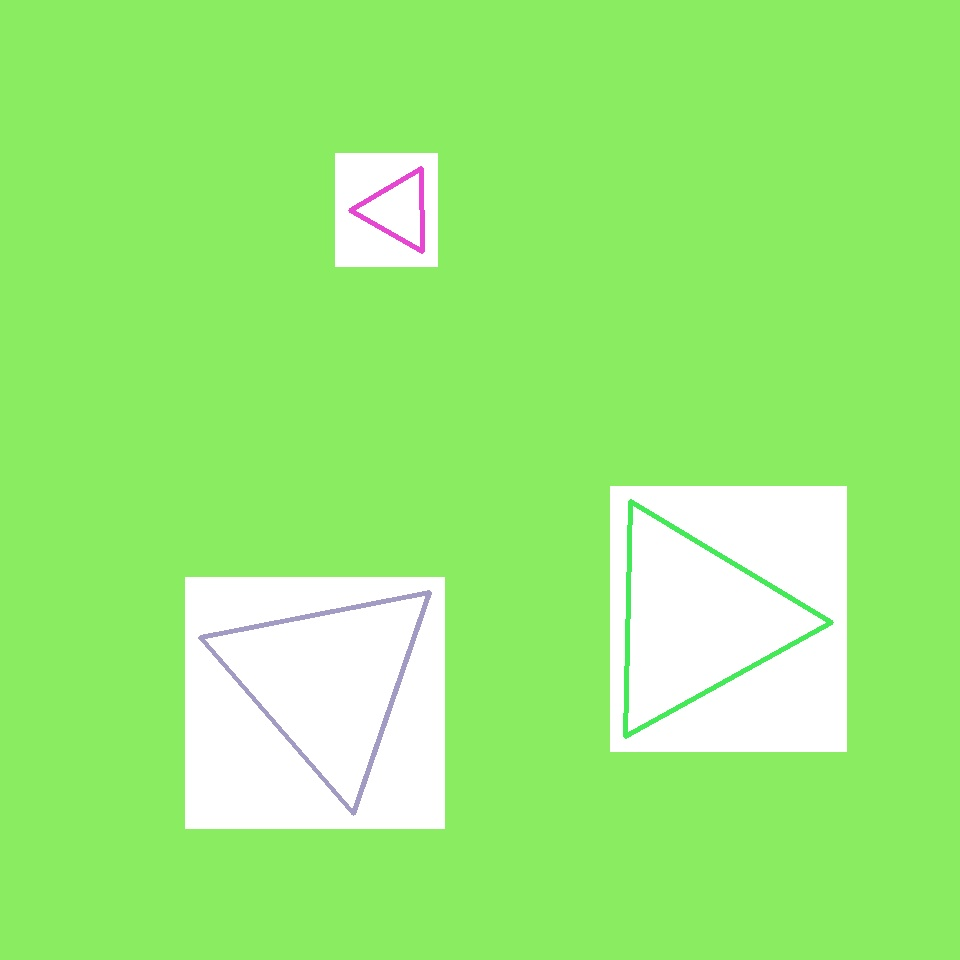circle: (214, 570, 442, 792), (593, 502, 799, 738), (816, 281, 944, 396), (362, 168, 434, 252)
square: (708, 802, 820, 914)
